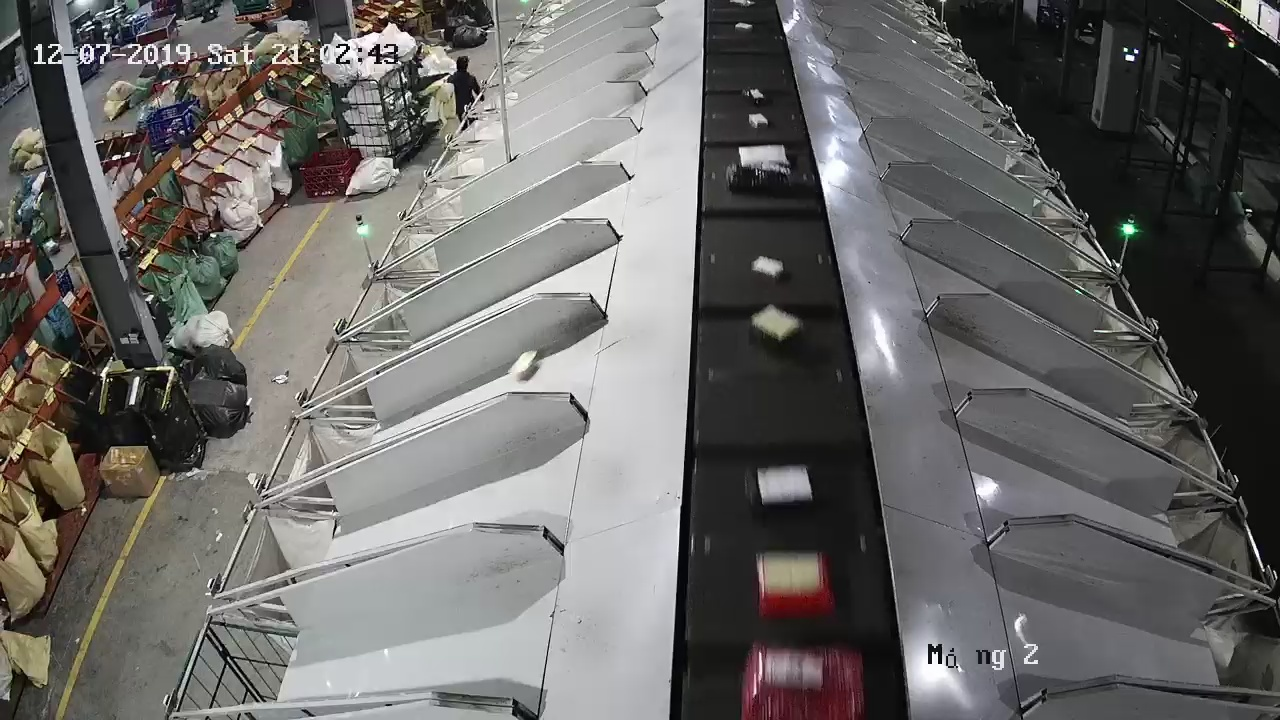parcel: (507, 349, 539, 381)
